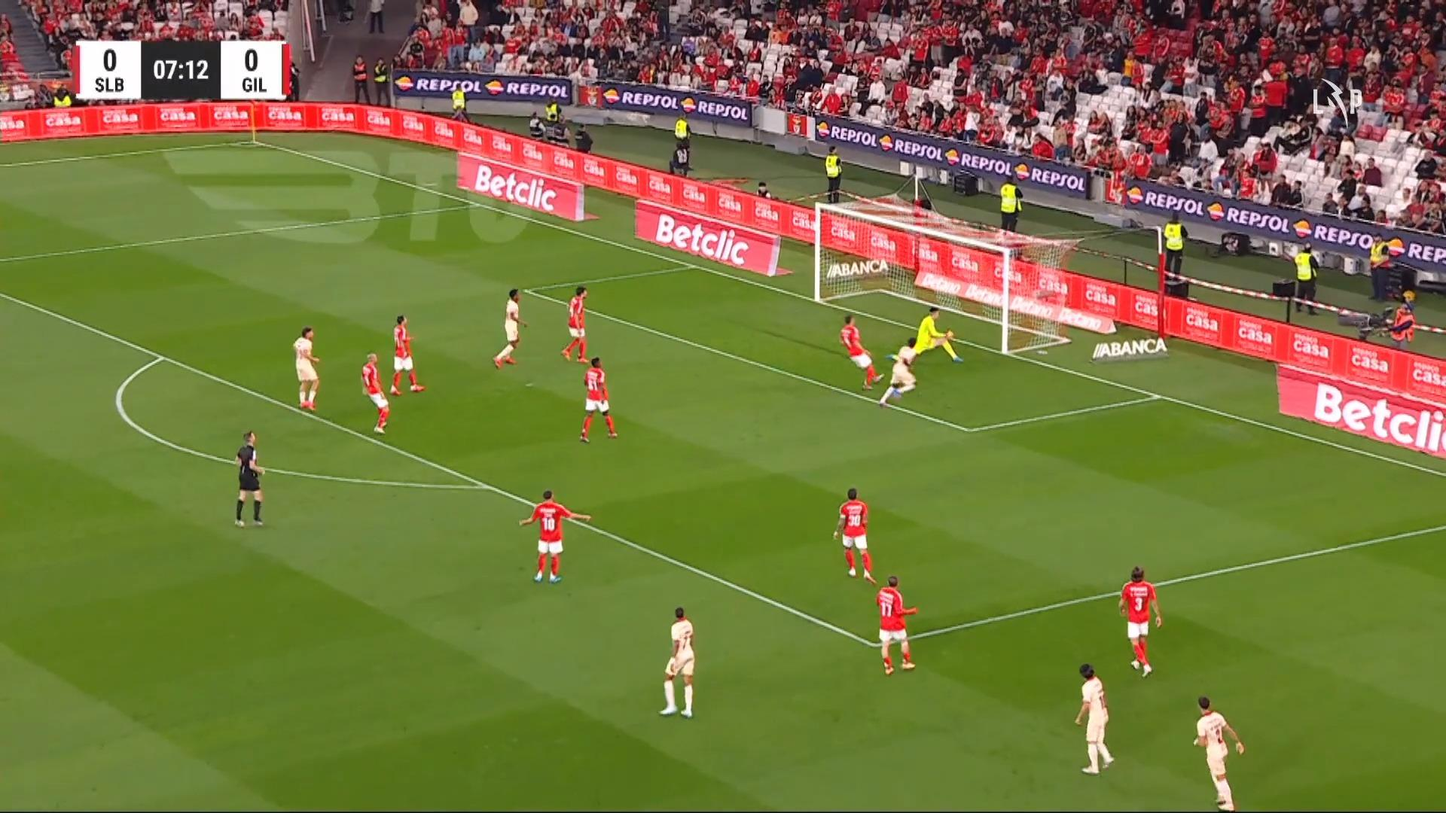goalkeeper: (908, 305, 963, 365)
player: (518, 489, 592, 583), (1192, 695, 1244, 811), (1118, 565, 1162, 678), (831, 486, 877, 585), (1074, 662, 1114, 774), (876, 574, 919, 675), (658, 606, 695, 718), (839, 314, 885, 390), (578, 356, 618, 443), (389, 314, 425, 395), (877, 338, 918, 408), (492, 288, 527, 368), (292, 326, 321, 410), (360, 352, 389, 434), (560, 285, 589, 363)
referee: (233, 430, 266, 527)
